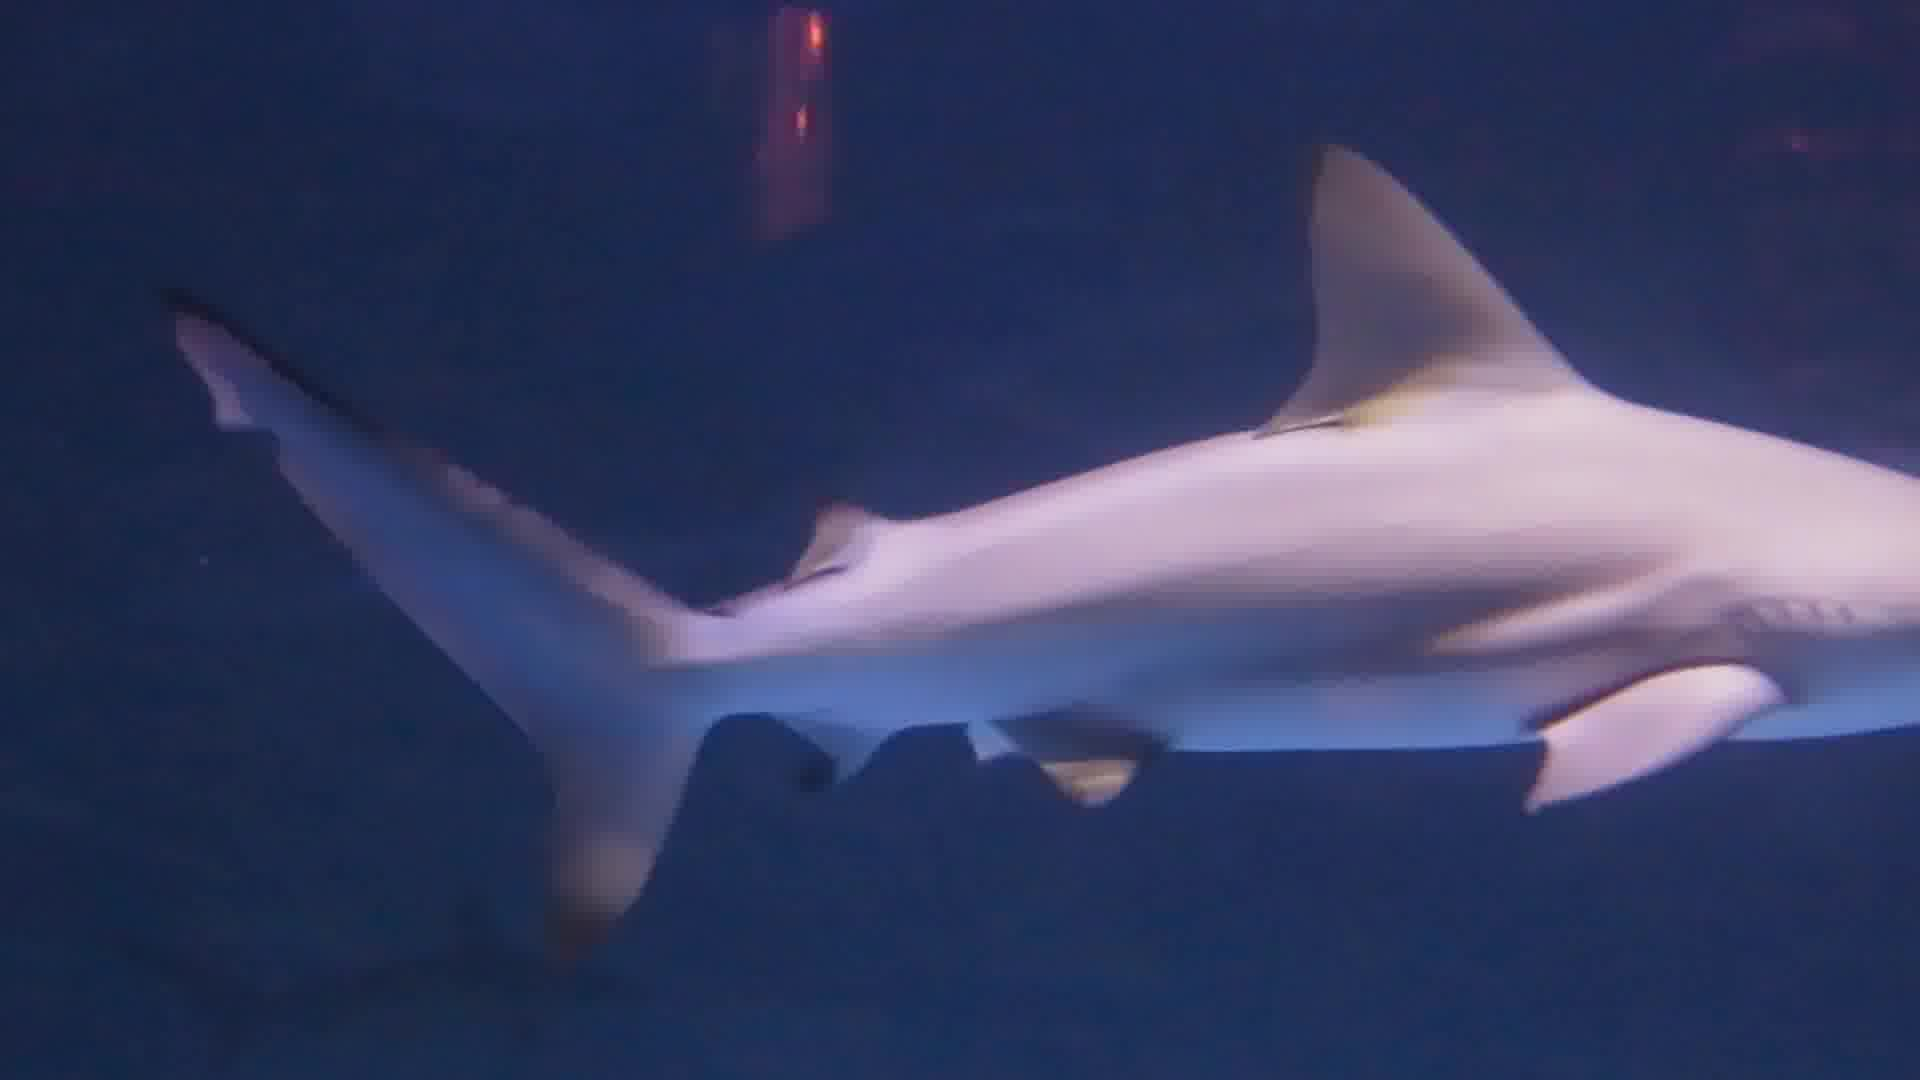Carcharhinus leucas: (193, 138, 1920, 949)
